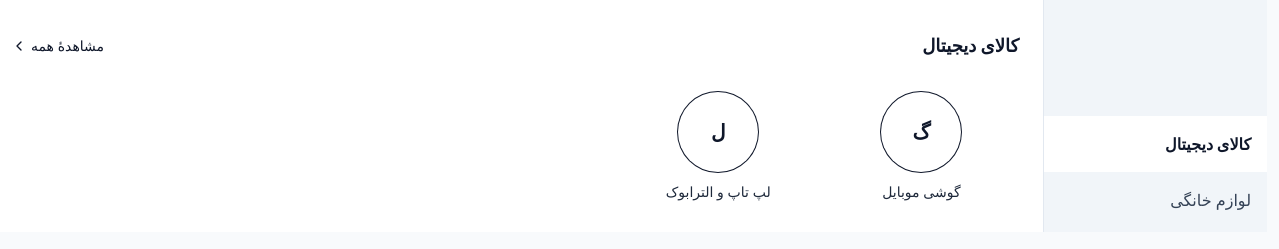
Scenario: CategoriesBrowser › switches the children when another root is chosen
The width and height of the screenshot is (1279, 249).
Click the tab "لوازم خانگی": click(1156, 200) [1044,172,1267,228]
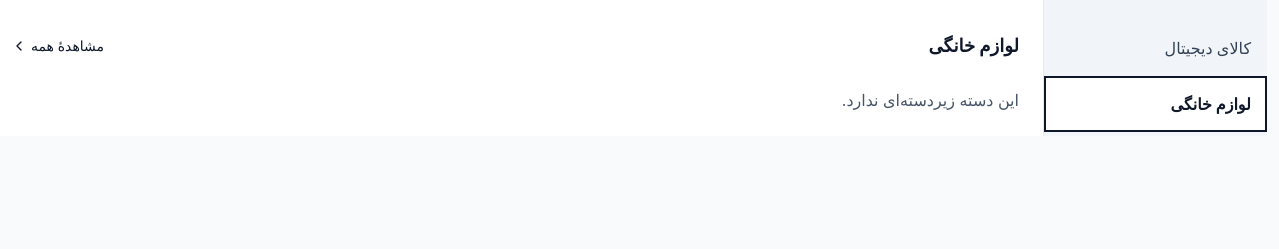
Check: the link "گوشی موبایل" is gone
